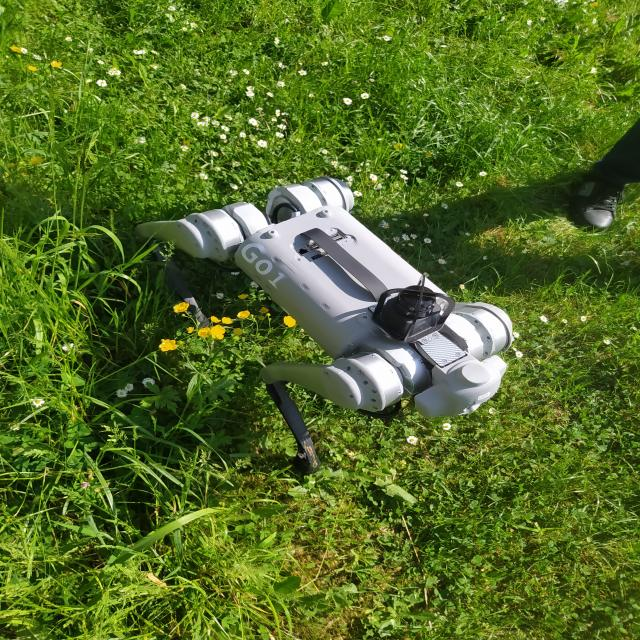unitree-go1-robot: (133, 167, 529, 484)
